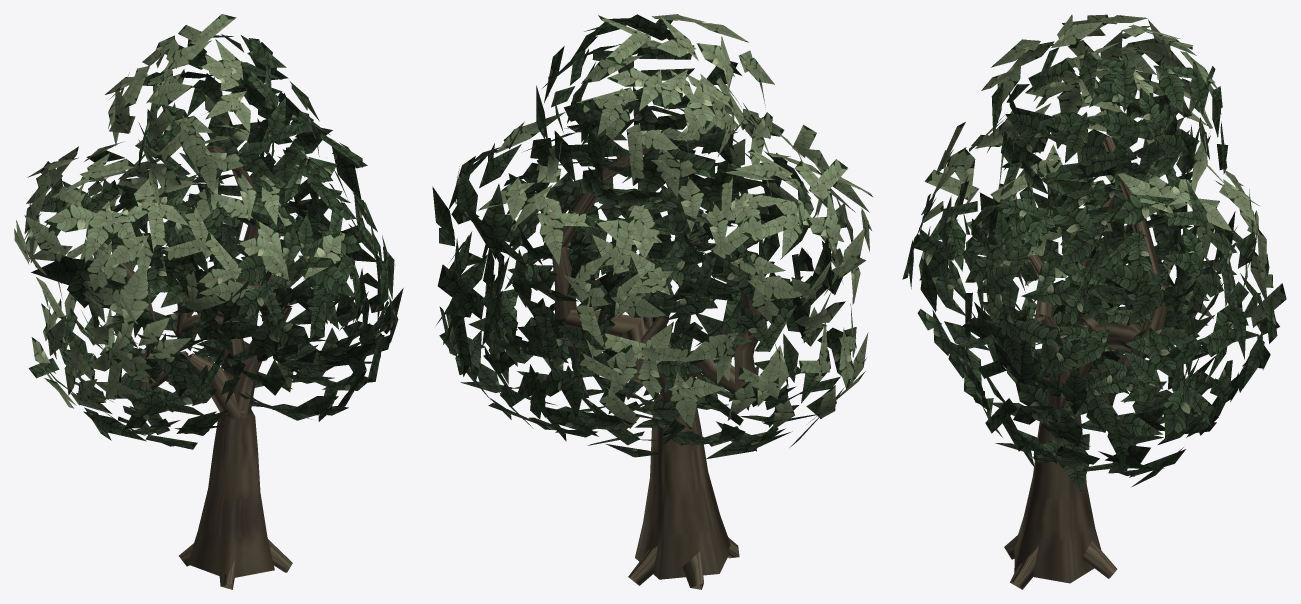
File: tree_pair_far.glb
The picture shows the model from 3 angles, left to right: view 1: azimuth 30°, elevation 25°; view 2: azimuth 150°, elevation 25°; view 3: azimuth 270°, elevation 25°; orthographic projection. The views are drawn at different scales.
Visible parts, largest first — view 1: tree_pair_lod1; view 2: tree_pair_lod1; view 3: tree_pair_lod1.
Part boxes in pixels (x1,y1,x2,y2): tree_pair_lod1: (14, 14, 403, 589); tree_pair_lod1: (432, 14, 872, 589); tree_pair_lod1: (902, 14, 1286, 589).
Bounding box in the file's own units: 2.05 × 2.77 × 1.73.
Materials: 1 (1 with a texture image).
